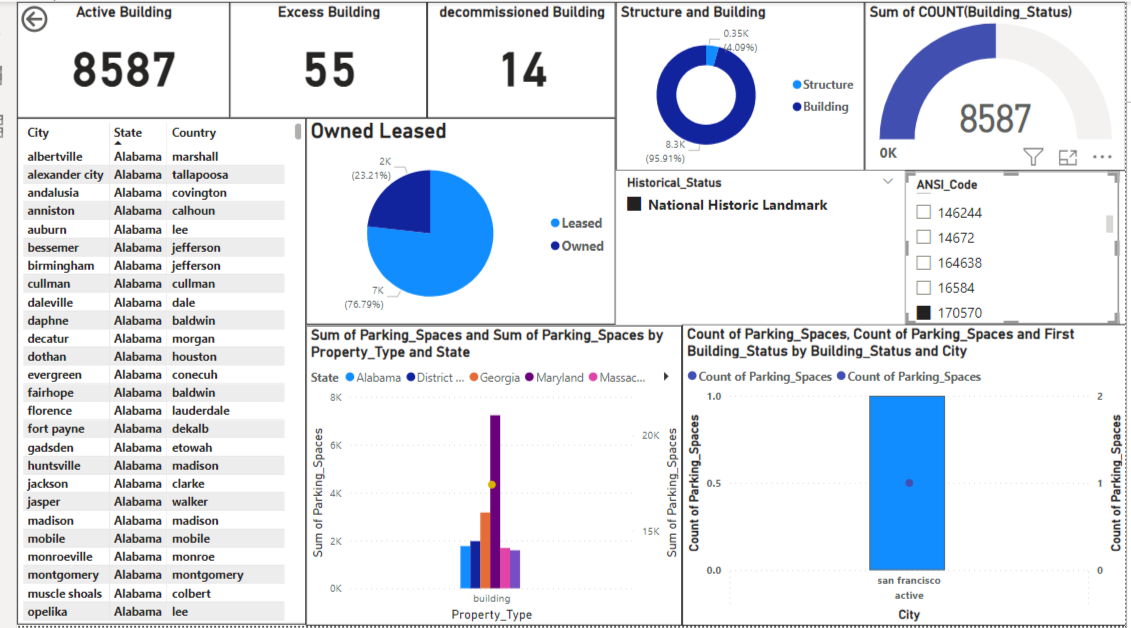

The dashboard page shown, as its layout file describes it:
{"tool":"powerbi","page":{"name":"Page 1","canvas":[1280,720],"ordinal":0},"visuals":[{"type":"kpi","title":"decommissioned Building","fields":{"Indicator":["Sum(decommissioned.COUNT(Building_Status))"],"TrendLine":["decommissioned.COUNT(Building_Status)"]},"box":[473.4,0,218,134.2],"z":0},{"type":"kpi","title":"Active Building","fields":{"TrendLine":["active.COUNT(Building_Status)"],"Indicator":["Sum(active.COUNT(Building_Status))"]},"box":[0,0,245.4,134.2],"z":1000},{"type":"kpi","title":"Excess Building","fields":{"Indicator":["Sum(excess.COUNT(Building_Status))"],"TrendLine":["excess.COUNT(Building_Status)"]},"box":[245.4,0,228.1,134.2],"z":2000},{"type":"tableEx","title":"City","fields":{"Values":["City.Column1","City.Column2","City.Column3"]},"box":[0,134.2,333.4,584.6],"z":3000},{"type":"donutChart","fields":{"Y":["CountNonNull(Structure.Column1)","CountNonNull(Building.Column1)"]},"box":[691.4,0,287.2,194.9],"z":4000},{"type":"pieChart","title":"Owned Leased","fields":{"Y":["Sum(Leased.building)","Sum(Owned_Count.building)"]},"box":[333.4,134.2,358,238.2],"z":5000},{"type":"actionButton","box":[0,0,100,40],"z":6000},{"type":"lineClusteredColumnComboChart","fields":{"Category":["Most_Parking_Spaces.Property_Type"],"Y":["Sum(Most_Parking_Spaces.Parking_Spaces)"],"Series":["Most_Parking_Spaces.State"],"Y2":["Sum(Most_Parking_Spaces.Parking_Spaces)"]},"box":[333.4,373.8,434.5,346.4],"z":7000},{"type":"gauge","fields":{"Y":["Sum(active.COUNT(Building_Status))"]},"box":[978.6,0,301.7,194.9],"z":8000},{"type":"slicer","fields":{"Values":["federal_Data_set.ANSI_Code"]},"box":[1024.8,196.3,246.8,176.1],"z":9000},{"type":"lineClusteredColumnComboChart","fields":{"Category":["federal_Data_set.Building_Status","federal_Data_set.City"],"Y":["CountNonNull(federal_Data_set.Parking_Spaces)"],"Y2":["CountNonNull(federal_Data_set.Parking_Spaces)"]},"box":[767.9,372.4,512.4,347.9],"z":9001},{"type":"slicer","fields":{"Values":["federal_Data_set.Historical_Status"]},"box":[691.4,194.9,333.4,177.5],"z":9002}]}

Visuals, with their boxes in screenshot pixels (x1, y1, x2, y2), scaled from the page's 1280x720 canvas onto the 1131x628 screenshot:
"decommissioned Building" kpi: (418, 0, 611, 117)
"Active Building" kpi: (0, 0, 217, 117)
"Excess Building" kpi: (217, 0, 418, 117)
"City" tableEx: (0, 117, 295, 627)
donutChart - CountNonNull(Structure.Column1) x CountNonNull(Building.Column1): (611, 0, 865, 170)
"Owned Leased" pieChart: (295, 117, 611, 325)
actionButton: (0, 0, 88, 35)
lineClusteredColumnComboChart - Most_Parking_Spaces.Property_Type x Sum(Most_Parking_Spaces.Parking_Spaces): (295, 326, 679, 627)
gauge - Sum(active.COUNT(Building_Status)): (865, 0, 1130, 170)
slicer - federal_Data_set.ANSI_Code: (906, 171, 1124, 325)
lineClusteredColumnComboChart - federal_Data_set.Building_Status x federal_Data_set.City: (679, 325, 1130, 627)
slicer - federal_Data_set.Historical_Status: (611, 170, 906, 325)
